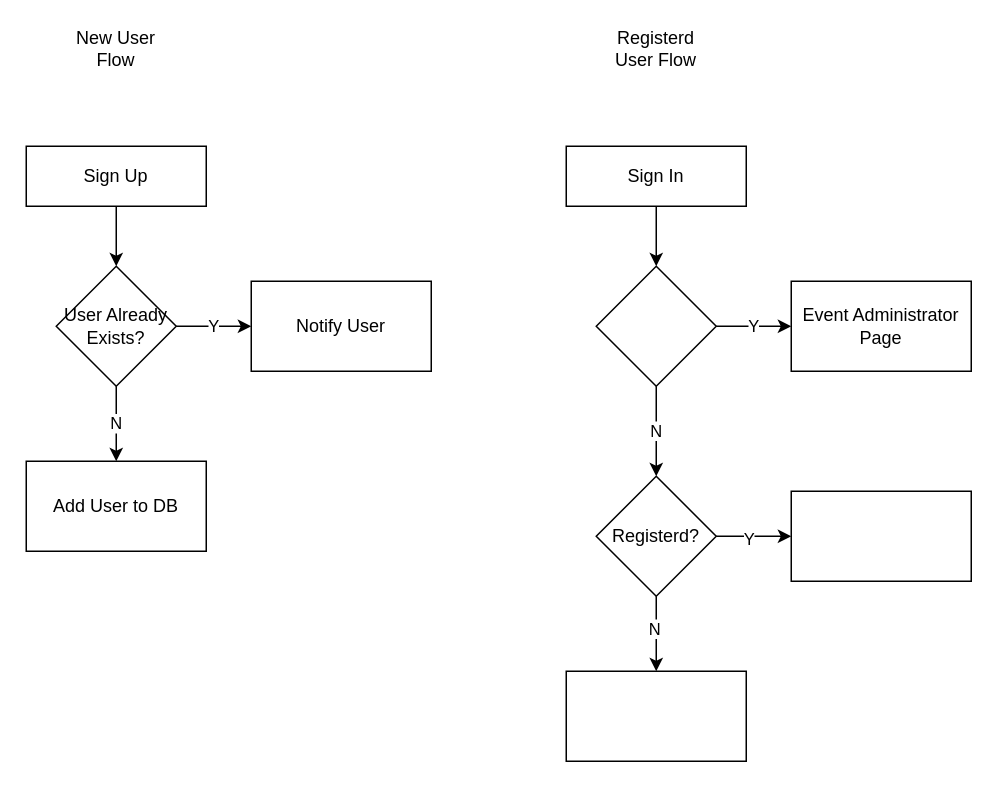
The diagram is 998 pixels wide and 788 high, and some of its shapes have lost their labels. The centre of each missing label's shape, as x and y in pixels:
"Administrator" belongs at pixel 655 325.
"Profile Information Page" belongs at pixel 655 715.
"Volunteer Page" belongs at pixel 880 535.
